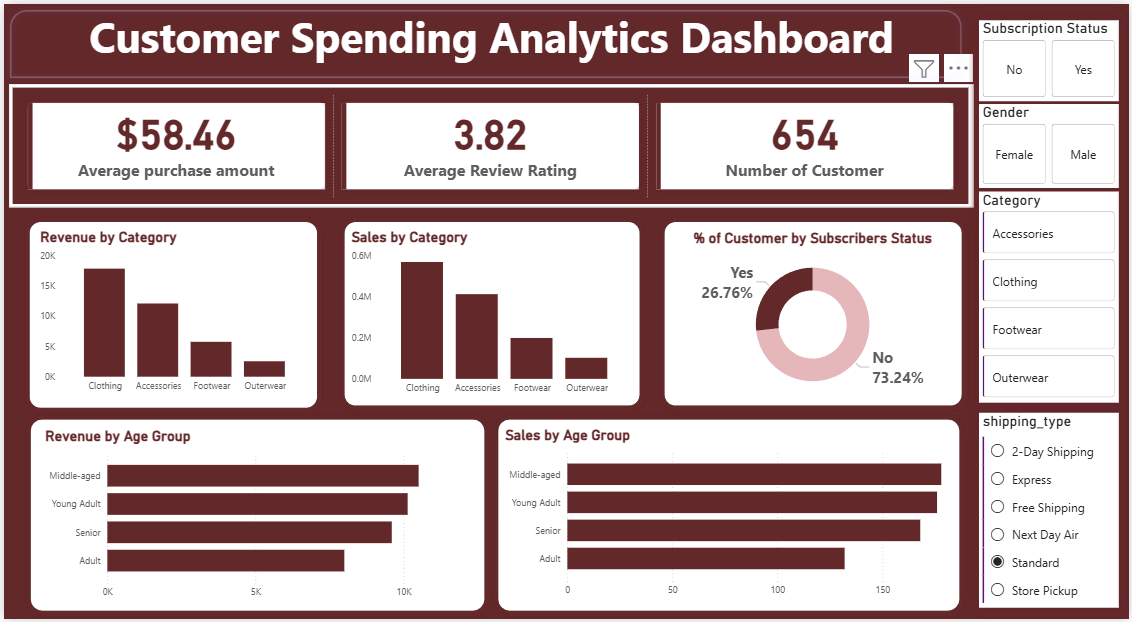

The page's visual inventory and layout, read from the dashboard file:
{"tool":"powerbi","page":{"name":"Page 1","canvas":[1500,820],"ordinal":0},"visuals":[{"type":"cardVisual","fields":{"Data":["customer_behavior customer.Average purchase amount","customer_behavior customer.Average Review Rating","customer_behavior customer.Number of Customer"]},"box":[6.7,106.7,1286.7,165],"z":0},{"type":"shape","box":[0,0,1285,106.7],"z":1000},{"type":"textbox","box":[6.7,0,1286.7,106.7],"z":2000},{"type":"shape","box":[25.7,281.4,401.4,265.7],"z":3000},{"type":"shape","box":[871.4,281.4,414.3,262.9],"z":4000},{"type":"donutChart","title":"% of Customer by Subscribers Status","fields":{"Category":["customer_behavior customer.subscription_status"],"Y":["CountNonNull(customer_behavior customer.customer_id)"]},"box":[892.9,301.4,370,230],"z":5000},{"type":"shape","box":[444.3,281.4,411.4,262.9],"z":6000},{"type":"clusteredColumnChart","title":"Revenue by Category","fields":{"Y":["Sum(customer_behavior customer.purchase_amount)"],"Category":["customer_behavior customer.category"]},"box":[42.9,300,367.1,227.1],"z":7000},{"type":"clusteredColumnChart","title":"Sales by Category","fields":{"Y":["Sum(customer_behavior customer.customer_id)"],"Category":["customer_behavior customer.category"]},"box":[458.6,300,382.9,230],"z":8000},{"type":"shape","box":[1285.7,0,214.3,820],"z":9000},{"type":"advancedSlicerVisual","fields":{"Values":["customer_behavior customer.category"]},"box":[1300,250,186.7,281.7],"z":10000},{"type":"listSlicer","fields":{"Values":["customer_behavior customer.shipping_type"]},"box":[1300,545,186.7,260],"z":11000},{"type":"shape","box":[650,544.3,632.9,272.9],"z":12000},{"type":"clusteredBarChart","title":"Sales by Age Group","fields":{"Y":["CountNonNull(customer_behavior customer.customer_id)"],"Category":["customer_behavior customer.age_group"]},"box":[662.9,562.9,607.1,235.7],"z":13000},{"type":"shape","box":[27.1,544.3,622.9,272.9],"z":14000},{"type":"clusteredBarChart","title":"Revenue by Age Group","fields":{"Y":["Sum(customer_behavior customer.purchase_amount)"],"Category":["customer_behavior customer.age_group"]},"box":[50,564.3,577.1,237.1],"z":15000},{"type":"advancedSlicerVisual","title":"Gender","fields":{"Values":["customer_behavior customer.gender"]},"box":[1300,133.3,186.7,111.7],"z":16000},{"type":"advancedSlicerVisual","title":"Subscription Status","fields":{"Values":["customer_behavior customer.subscription_status"]},"box":[1300,21.7,186.7,108.3],"z":17000}]}

Visuals, with their boxes in screenshot pixels (x1, y1, x2, y2), scaled from the page's 1500x820 canvas onto the 1132x622 screenshot:
cardVisual - customer_behavior customer.Average purchase amount x customer_behavior customer.Average Review Rating: {"left": 5, "top": 81, "right": 976, "bottom": 206}
shape: {"left": 0, "top": 0, "right": 970, "bottom": 81}
textbox: {"left": 5, "top": 0, "right": 976, "bottom": 81}
shape: {"left": 19, "top": 213, "right": 322, "bottom": 415}
shape: {"left": 658, "top": 213, "right": 970, "bottom": 413}
"% of Customer by Subscribers Status" donutChart: {"left": 674, "top": 229, "right": 953, "bottom": 403}
shape: {"left": 335, "top": 213, "right": 646, "bottom": 413}
"Revenue by Category" clusteredColumnChart: {"left": 32, "top": 228, "right": 309, "bottom": 400}
"Sales by Category" clusteredColumnChart: {"left": 346, "top": 228, "right": 635, "bottom": 402}
shape: {"left": 970, "top": 0, "right": 1131, "bottom": 621}
advancedSlicerVisual - customer_behavior customer.category: {"left": 981, "top": 190, "right": 1122, "bottom": 403}
listSlicer - customer_behavior customer.shipping_type: {"left": 981, "top": 413, "right": 1122, "bottom": 611}
shape: {"left": 491, "top": 413, "right": 968, "bottom": 620}
"Sales by Age Group" clusteredBarChart: {"left": 500, "top": 427, "right": 958, "bottom": 606}
shape: {"left": 20, "top": 413, "right": 491, "bottom": 620}
"Revenue by Age Group" clusteredBarChart: {"left": 38, "top": 428, "right": 473, "bottom": 608}
"Gender" advancedSlicerVisual: {"left": 981, "top": 101, "right": 1122, "bottom": 186}
"Subscription Status" advancedSlicerVisual: {"left": 981, "top": 16, "right": 1122, "bottom": 99}
